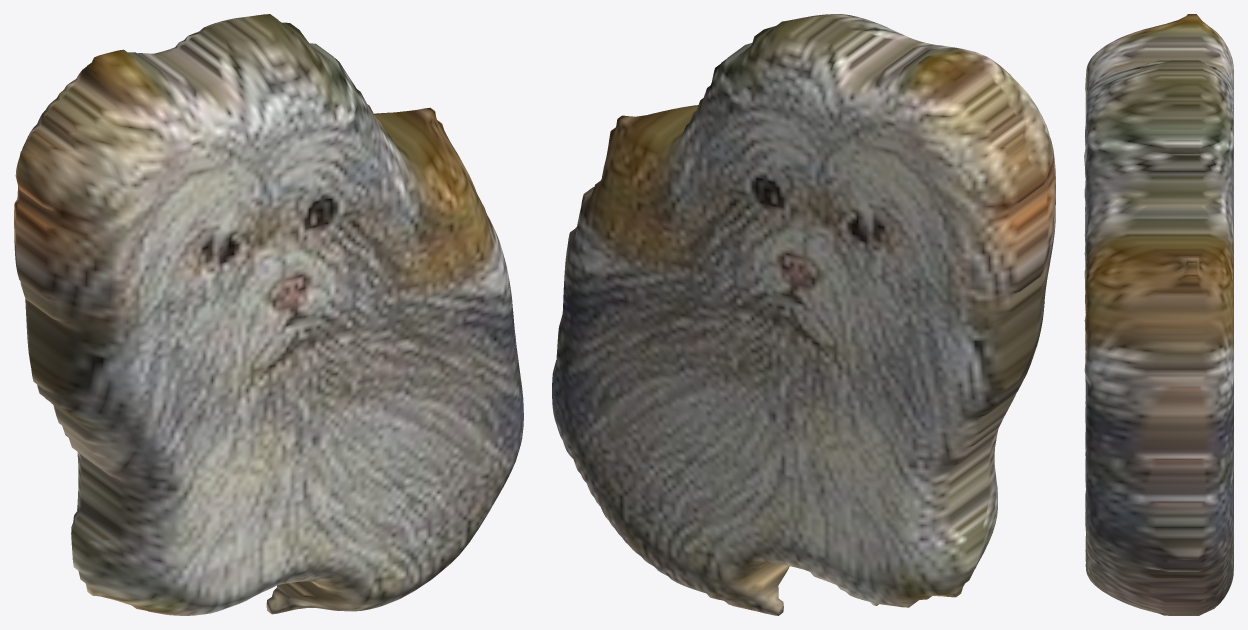
The model's file is eden-dog.glb.
3 views of the same model, side by side, from view 1: azimuth 30°, elevation 25°; view 2: azimuth 150°, elevation 25°; view 3: azimuth 270°, elevation 25° (orthographic). The views are drawn at different scales.
Parts seen in each view (by area): view 1: eden-dog; view 2: eden-dog; view 3: eden-dog.
Part boxes in pixels (box(x1,y1,x2,y2)): eden-dog: box(14, 14, 523, 615); eden-dog: box(552, 14, 1055, 615); eden-dog: box(1084, 14, 1233, 615).
Bounding box in the file's own units: 1.01 × 1.22 × 0.3318.
Materials: 1 (1 with a texture image).
